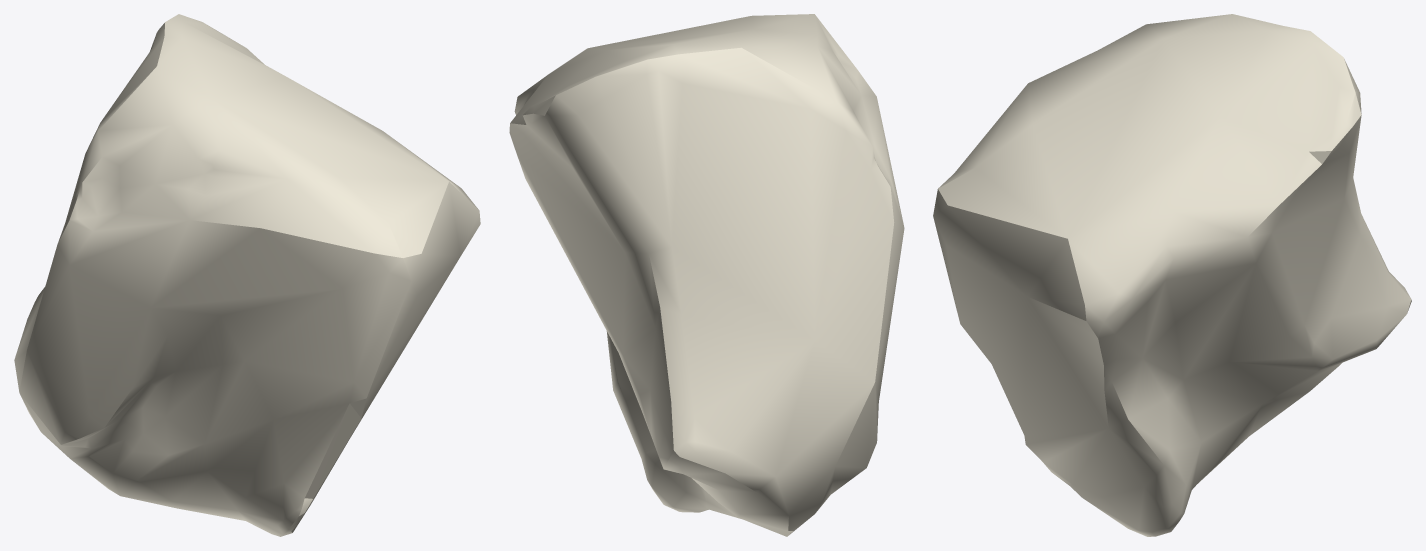
The model's file is fma24524_fj3264.glb.
3 views of the same model, side by side, from view 1: azimuth 30°, elevation 25°; view 2: azimuth 150°, elevation 25°; view 3: azimuth 270°, elevation 25° (orthographic). The views are drawn at different scales.
Visible parts, largest first — view 1: FMA24524_FJ3264; view 2: FMA24524_FJ3264; view 3: FMA24524_FJ3264.
Part boxes in pixels (x1,y1,x2,y2): FMA24524_FJ3264: (14, 14, 480, 536); FMA24524_FJ3264: (509, 14, 904, 536); FMA24524_FJ3264: (933, 14, 1411, 536).
Size of the model in its own units: 0.0199 by 0.0231 by 0.0207.
